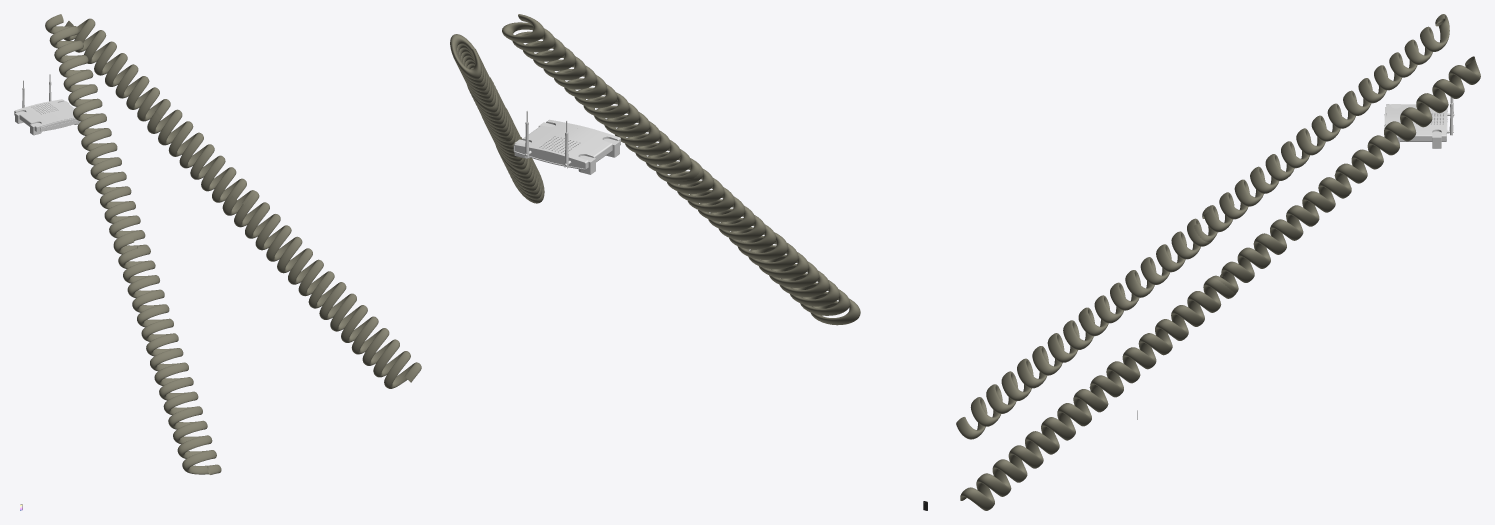
The picture shows the model from 3 angles, left to right: view 1: azimuth 30°, elevation 25°; view 2: azimuth 150°, elevation 25°; view 3: azimuth 270°, elevation 25°; orthographic projection. The views are drawn at different scales.
Visible parts, largest first — view 1: Circle.001, Circle.002, linksys; view 2: Circle.002, Circle.001, linksys; view 3: Circle.001, Circle.002, linksys.
Boxes of the visible parts, bbox=[...] form: Circle.001: bbox=[64, 18, 421, 388]; Circle.002: bbox=[45, 14, 221, 474]; linksys: bbox=[14, 74, 80, 135]; Circle.002: bbox=[502, 14, 860, 325]; Circle.001: bbox=[450, 34, 544, 203]; linksys: bbox=[513, 110, 620, 174]; Circle.001: bbox=[960, 56, 1480, 510]; Circle.002: bbox=[956, 14, 1449, 439]; linksys: bbox=[1384, 97, 1454, 148].
Bounding box in the file's own units: 857 × 905 × 858.
